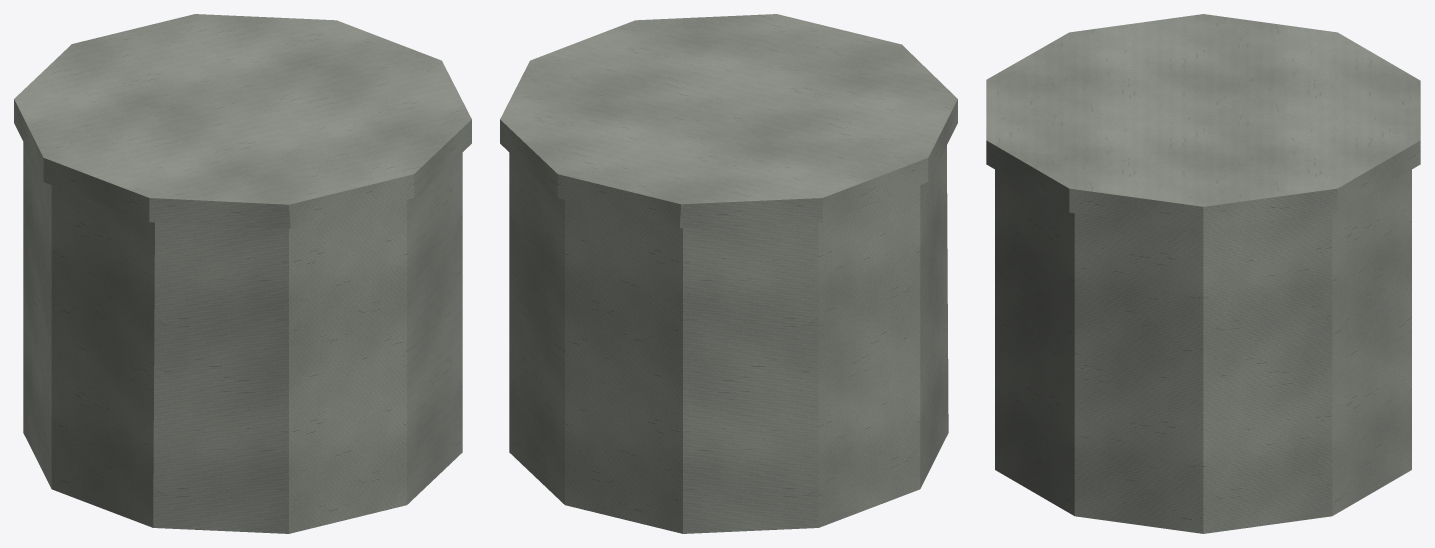
File: bucket_v3.glb
The picture shows the model from 3 angles, left to right: view 1: azimuth 30°, elevation 25°; view 2: azimuth 150°, elevation 25°; view 3: azimuth 270°, elevation 25°; orthographic projection.
Parts seen in each view (by area): view 1: Variant_bucket_3; view 2: Variant_bucket_3; view 3: Variant_bucket_3.
Part boxes in pixels (<box>): Variant_bucket_3: <box>14,14,471,533</box>; Variant_bucket_3: <box>500,14,957,533</box>; Variant_bucket_3: <box>986,14,1420,533</box>.
Bounding box in the file's own units: 0.344 × 0.275 × 0.3272.
Materials: 1 (1 with a texture image).
